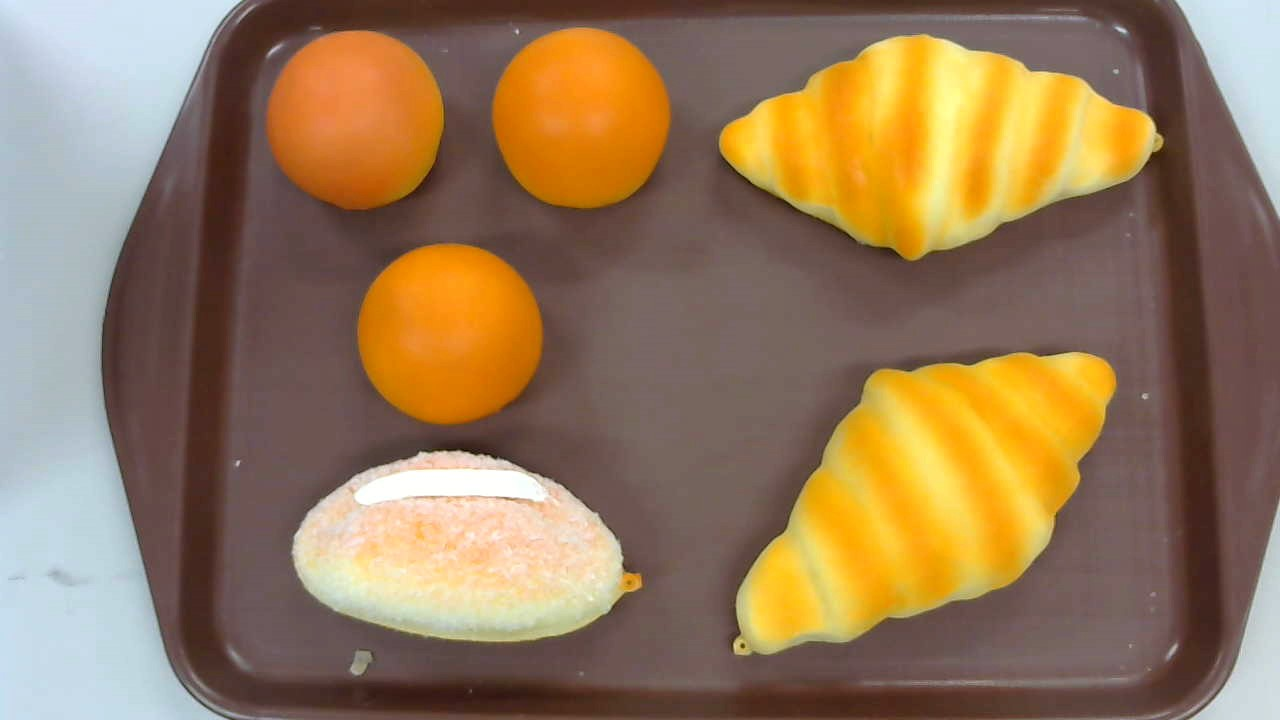bun: (356, 242, 544, 425), (491, 27, 672, 209), (264, 29, 443, 209)
coconut: (291, 449, 643, 643)
croissant: (731, 350, 1118, 657), (716, 31, 1164, 262)
